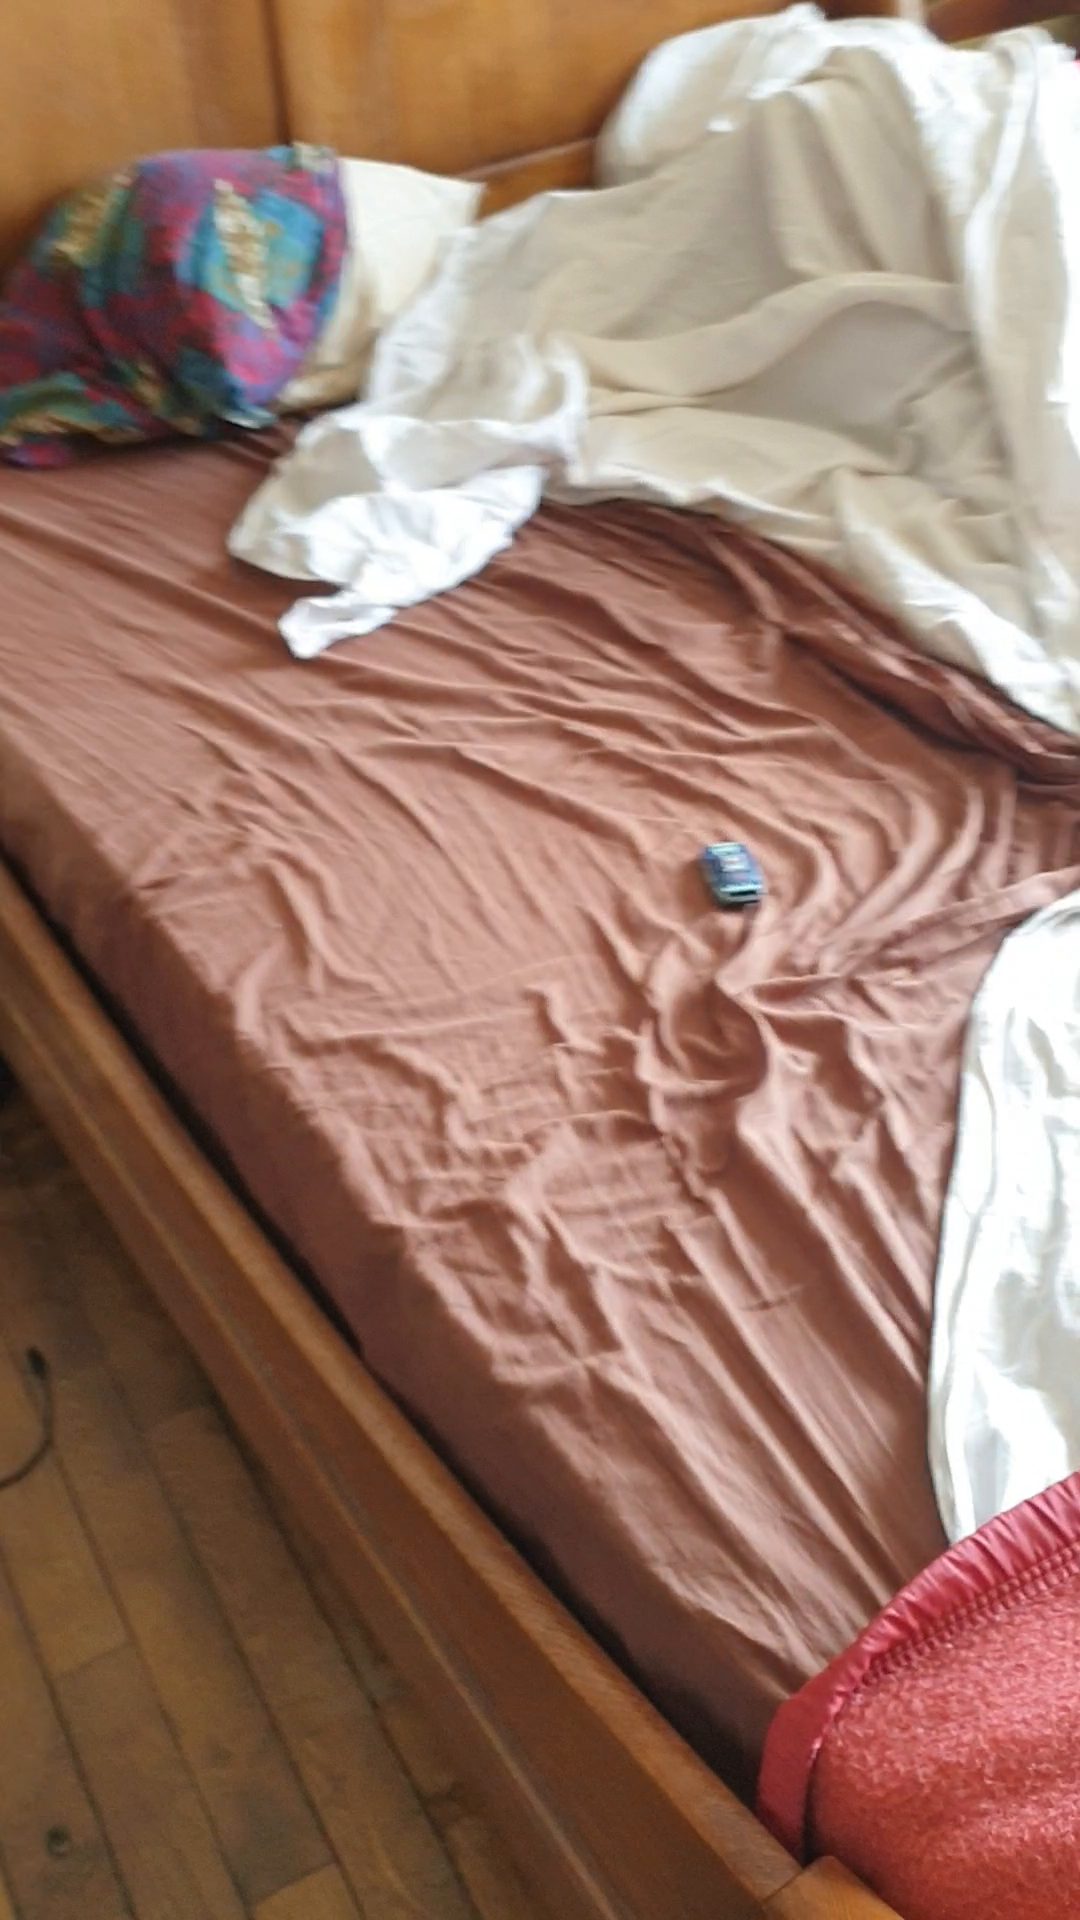cars: (700, 841, 767, 905)
